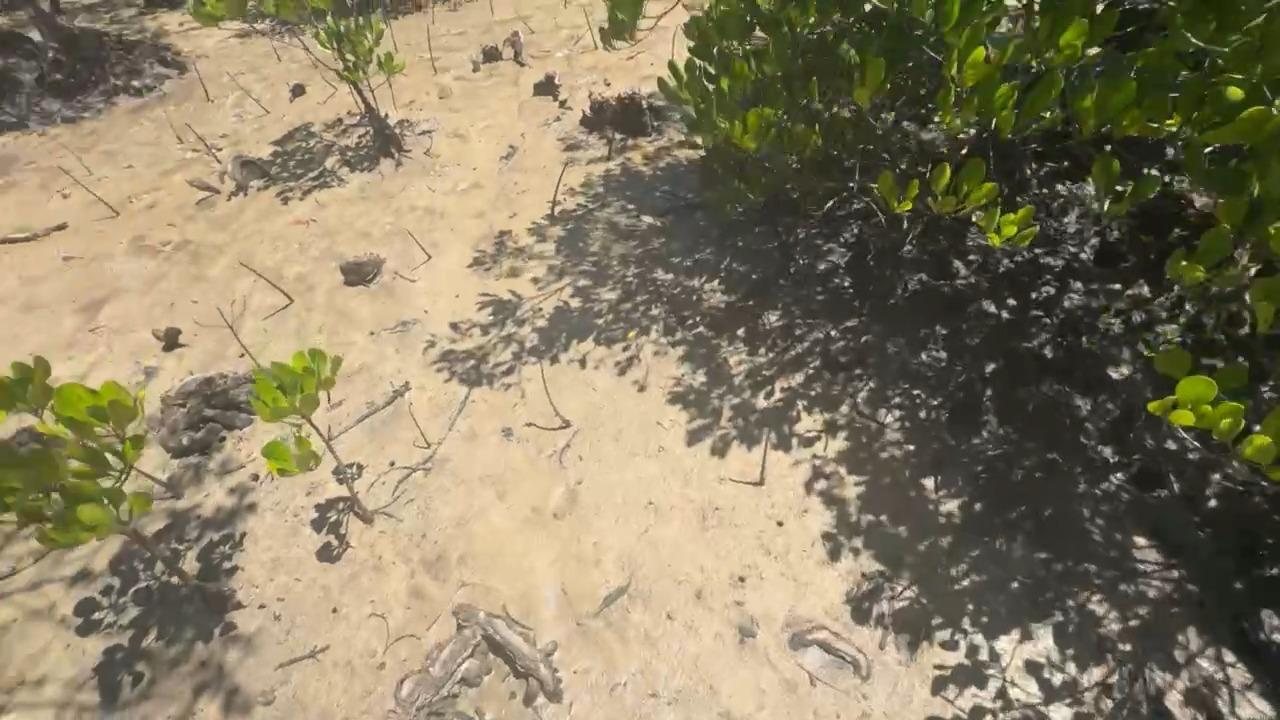Tree: (247, 348, 374, 523), (57, 166, 120, 215), (239, 261, 294, 304), (539, 361, 571, 427), (227, 71, 270, 114), (52, 135, 93, 177), (184, 122, 222, 165), (408, 402, 431, 449), (404, 225, 433, 259), (758, 424, 773, 486), (551, 162, 568, 215), (163, 106, 183, 145), (193, 59, 210, 102), (583, 7, 599, 49), (426, 23, 437, 73), (606, 120, 618, 162), (516, 10, 536, 33), (267, 30, 281, 61), (389, 14, 399, 54), (321, 75, 339, 90), (432, 0, 436, 23), (490, 0, 495, 17)
